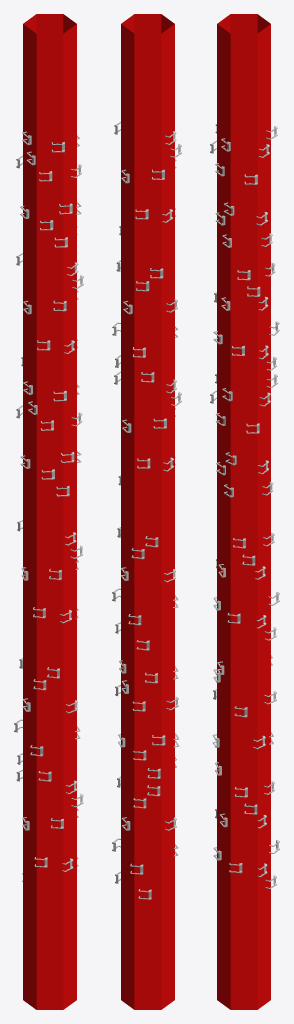
File: Tower.obj
3 views of the same model, side by side, from view 1: azimuth 30°, elevation 25°; view 2: azimuth 150°, elevation 25°; view 3: azimuth 330°, elevation 25° (orthographic).
Visible parts, largest first — view 1: Hexagon.001_Cylinder.001; view 2: Hexagon.001_Cylinder.001; view 3: Hexagon.001_Cylinder.001.
Boxes of the visible parts, bbox=[...] form: Hexagon.001_Cylinder.001: bbox=[23, 14, 76, 1009]; Hexagon.001_Cylinder.001: bbox=[121, 14, 174, 1009]; Hexagon.001_Cylinder.001: bbox=[217, 14, 270, 1009].
Size of the model in its own units: 9.42 by 160 by 10.18.
